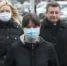mask: (23, 21, 41, 41), (1, 5, 12, 22)
none: (47, 5, 60, 23)
